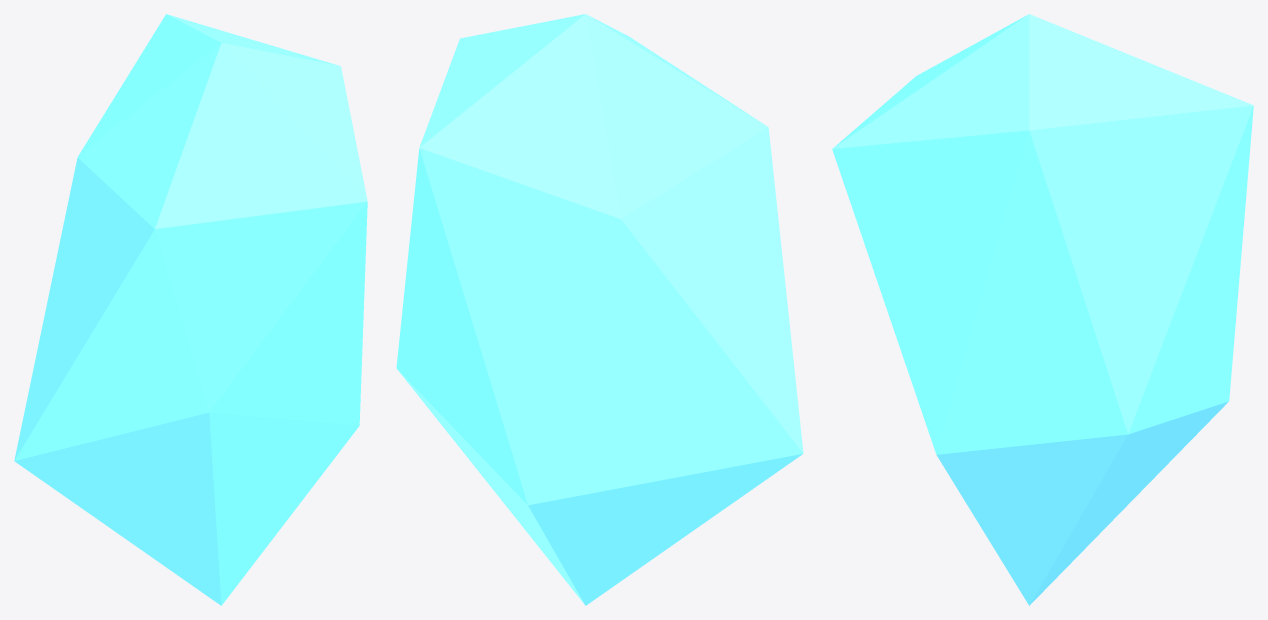
File: core_fragment_2.glb
3 renders of one model, left to right at view 1: azimuth 30°, elevation 25°; view 2: azimuth 150°, elevation 25°; view 3: azimuth 270°, elevation 25°, orthographic. The views are drawn at different scales.
Visible parts, largest first — view 1: core_fragment_2; view 2: core_fragment_2; view 3: core_fragment_2.
Boxes of the visible parts, x1,y1,x2,y2 form: core_fragment_2: (14,14,367,605); core_fragment_2: (396,14,803,605); core_fragment_2: (832,14,1253,605).
Bounding box in the file's own units: 0.1822 × 0.2882 × 0.186.
